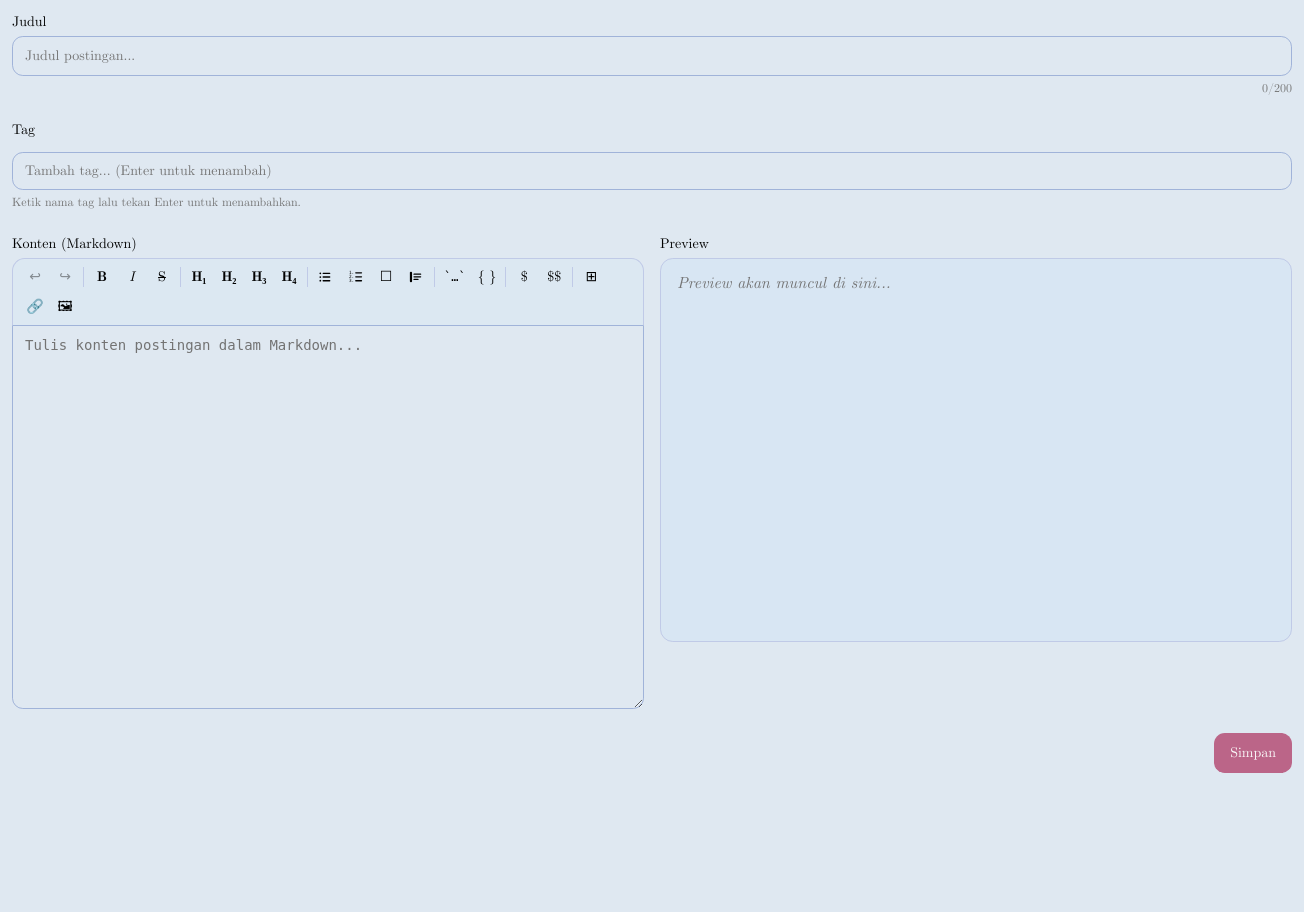
Test: PostEditor › shows both validation errors when title and content are empty
Click the button "Simpan" at x=1253, y=753, box [1214, 733, 1292, 773]
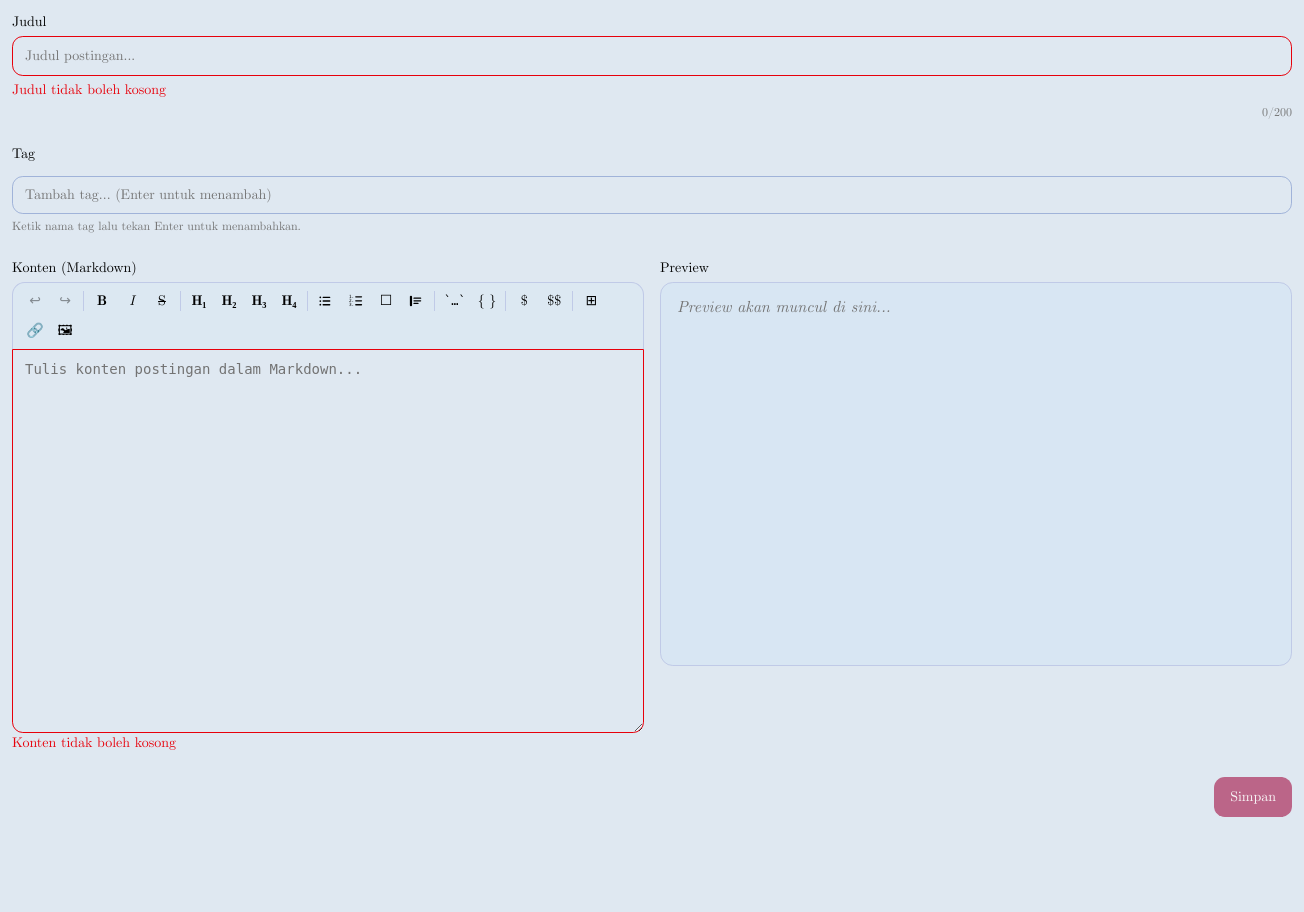
Result: the text "Judul tidak boleh kosong" is shown at [12, 83, 166, 97]
Result: the text "Konten tidak boleh kosong" is shown at [12, 736, 176, 750]
